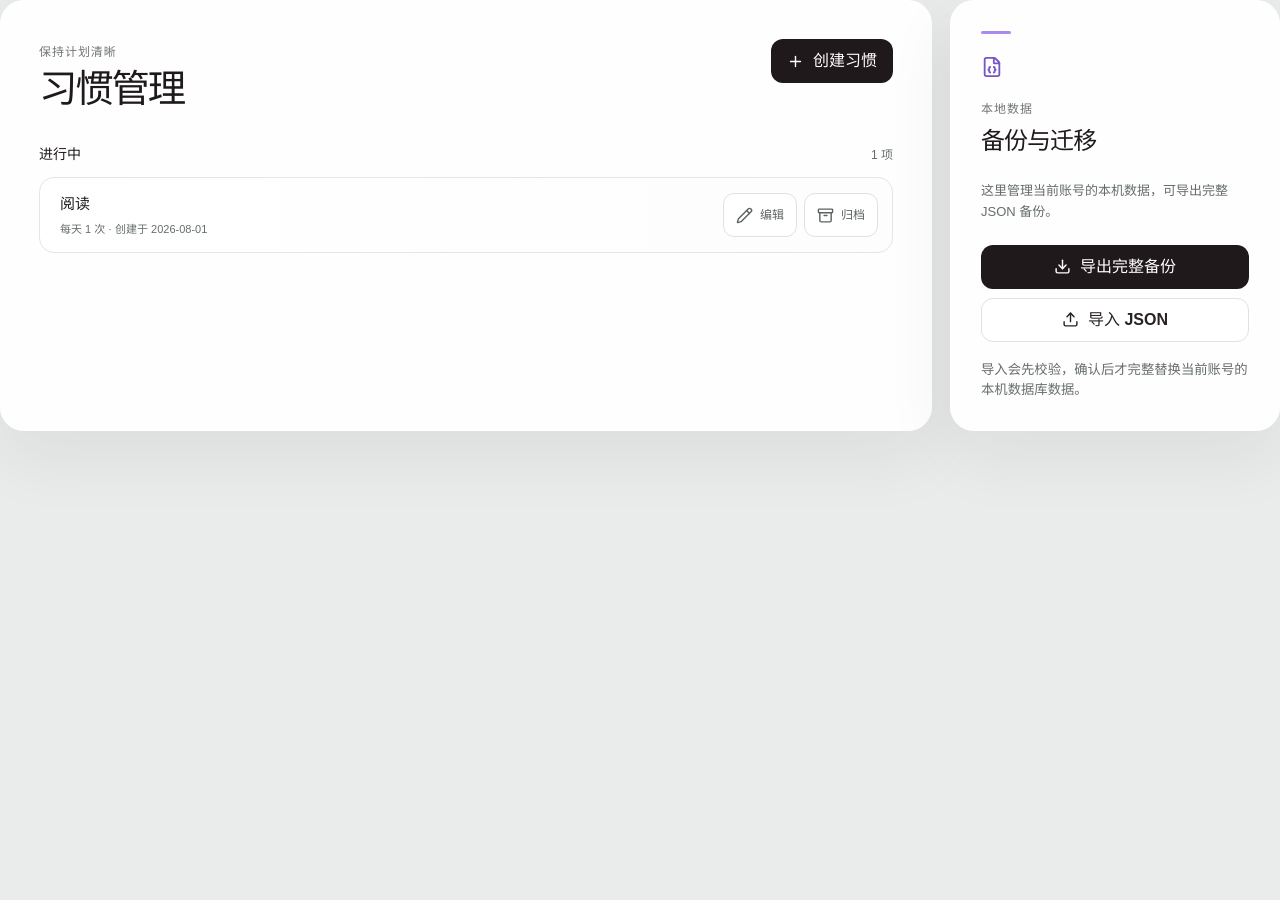
Test: ManagePage account writes › keeps a create form while the account save is pending or rejected and blocks duplicate submission
Click the button "创建习惯": point(832, 61) [771,39,893,83]
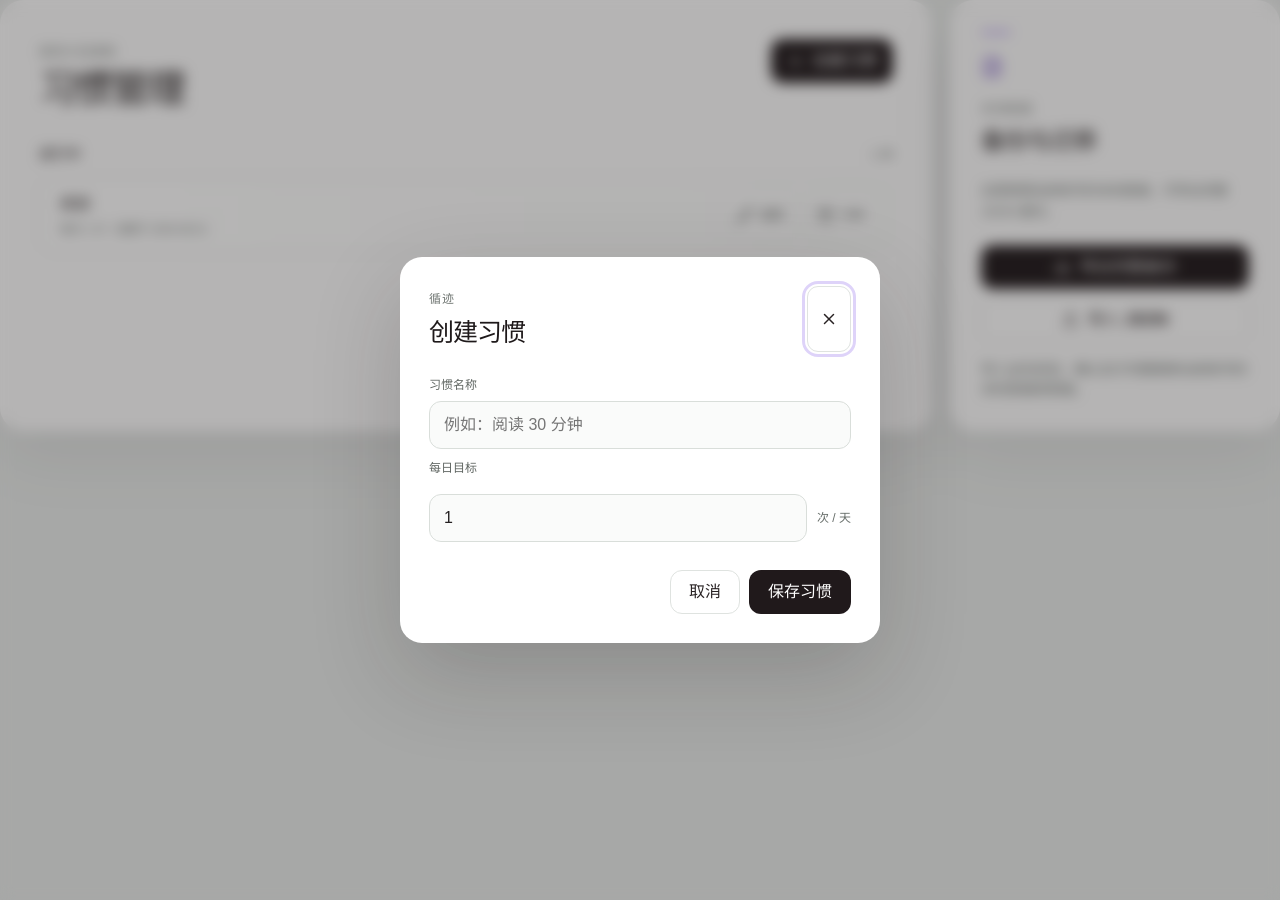
In the field labelled "习惯名称": point(640, 425) [429,401,851,449], type "散步"
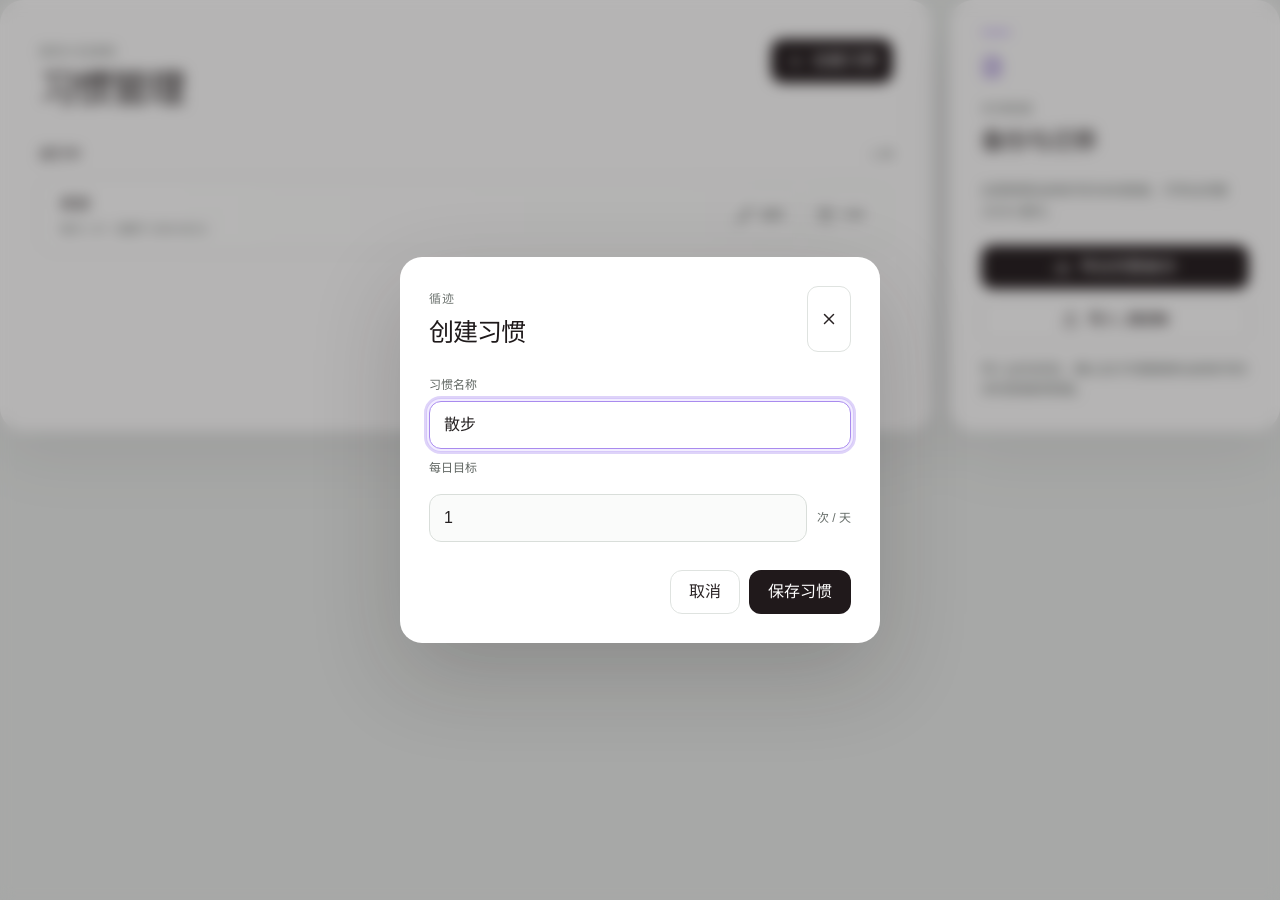
Click the button "保存习惯": point(800, 592) [749,570,851,614]
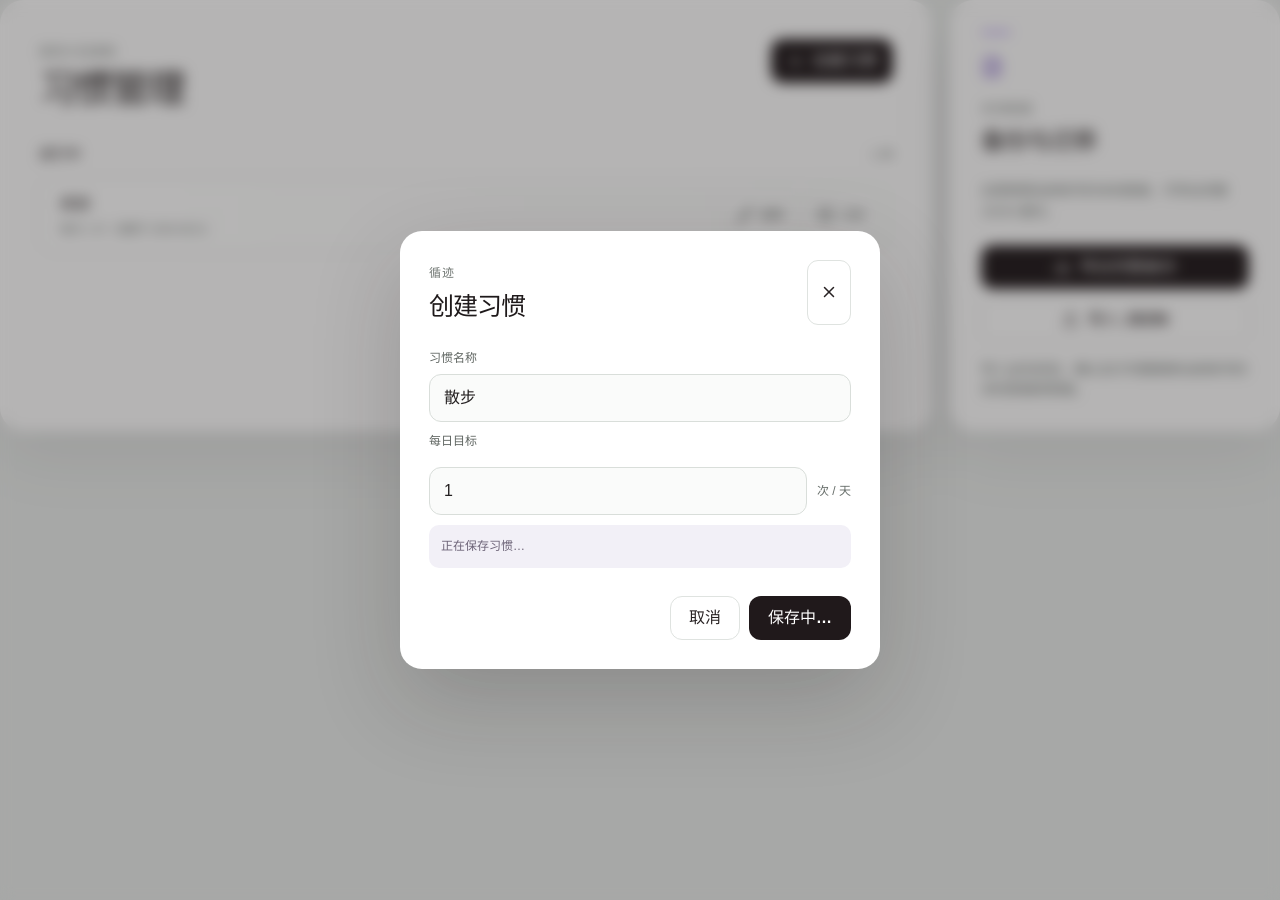
Result: the dialog "创建习惯" is shown at [400,231,880,669]
Result: the button named "保存习惯" is disabled
Click the button named "保存习惯": point(800, 618) [749,596,851,640]
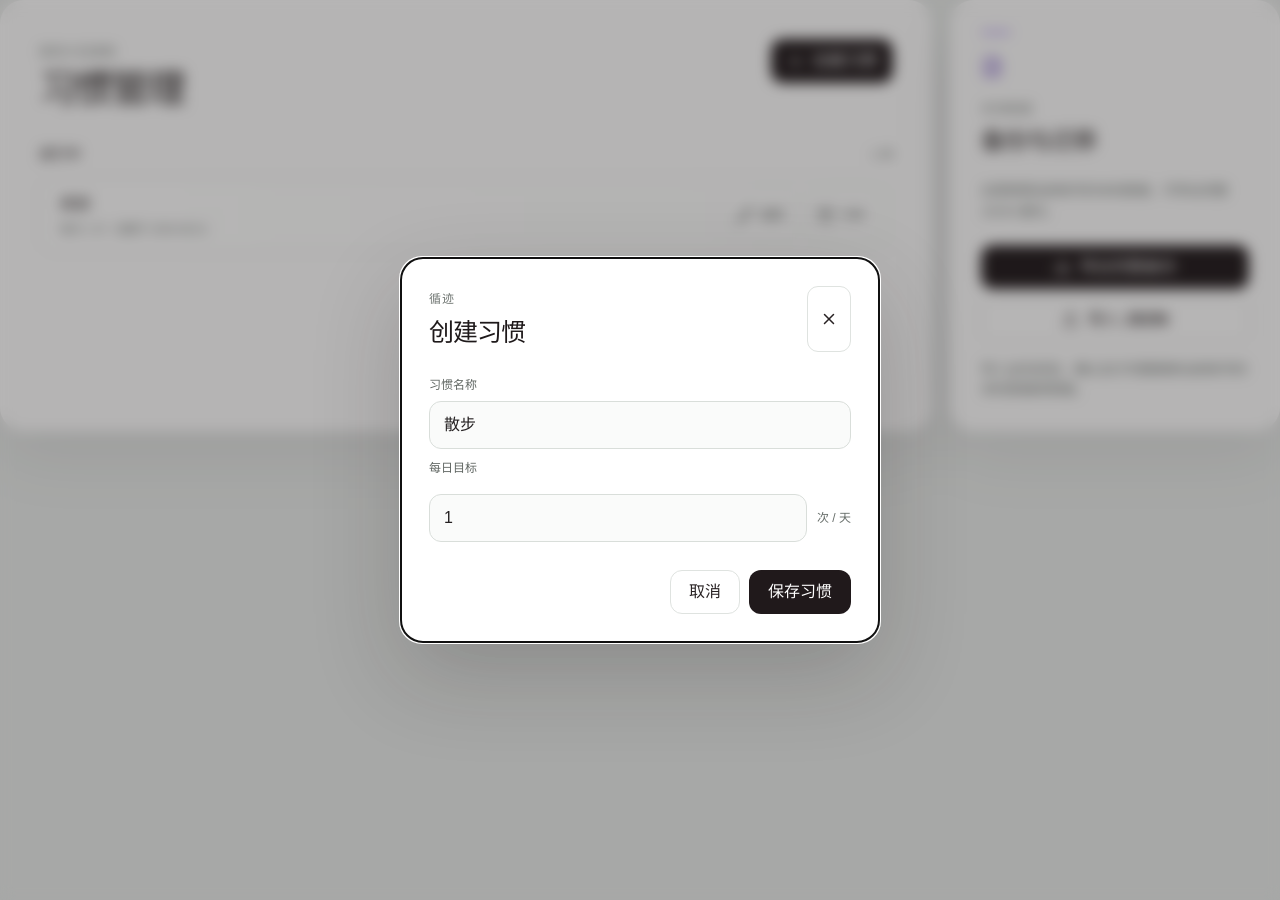
Result: the dialog "创建习惯" is shown at [400,257,880,643]
Result: the button "保存习惯" is enabled at [749,570,851,614]
